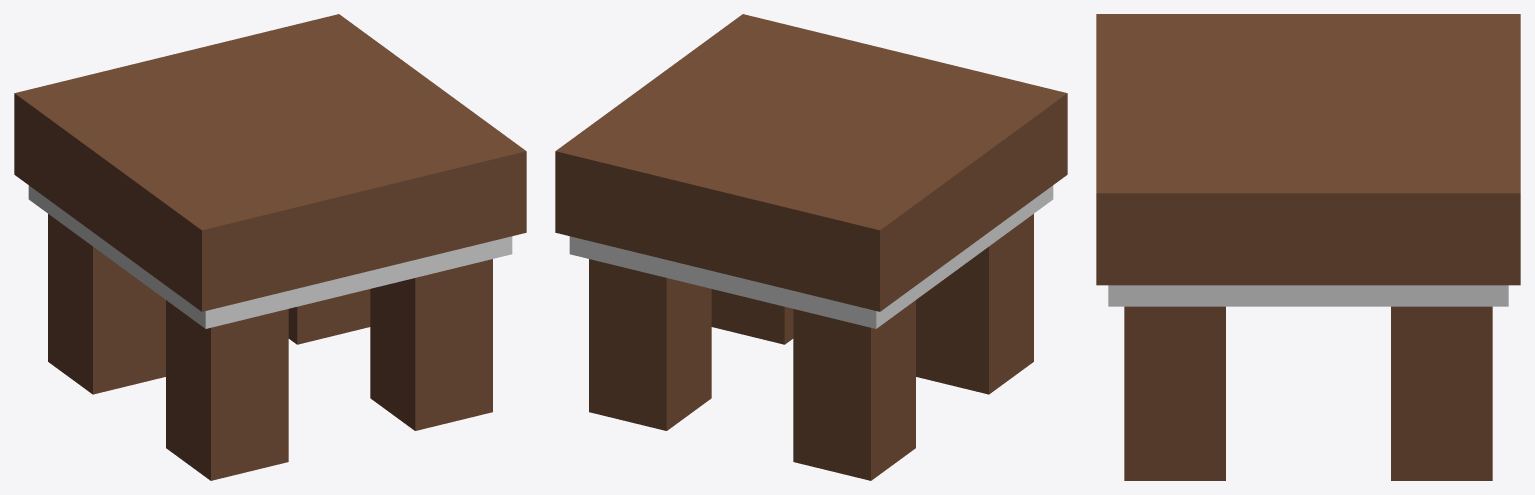
Rendered from Stool.fbx.
The picture shows the model from 3 angles, left to right: view 1: azimuth 30°, elevation 25°; view 2: azimuth 150°, elevation 25°; view 3: azimuth 270°, elevation 25°; orthographic projection. The views are drawn at different scales.
Visible parts, largest first — view 1: Stool; view 2: Stool; view 3: Stool.
Part boxes in pixels (x1,y1,x2,y2): Stool: [14, 14, 526, 480]; Stool: [555, 14, 1067, 480]; Stool: [1096, 14, 1520, 480].
Size of the model in its own units: 101 by 78.68 by 101.
